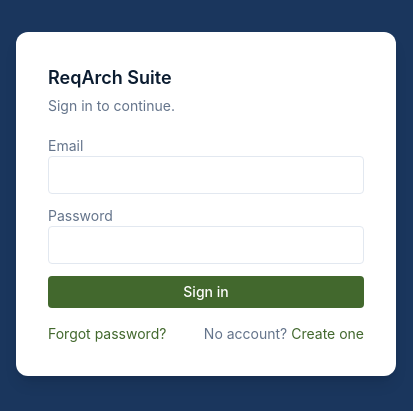
Test case: AuthGate › a failed sign-in shows the error and keeps you on the form
The image size is (413, 411).
In the field labelled "Email": point(206, 175) [48,156,364,194], type "v@example.com"
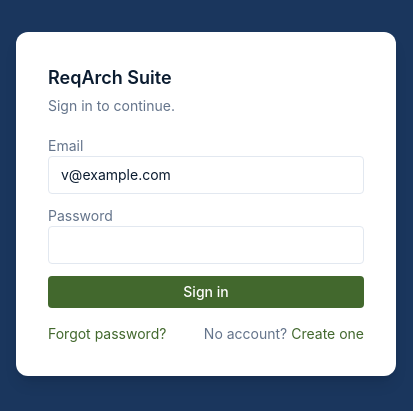
In the password field labelled "Password": point(206, 245) [48,226,364,264], type "wrongpassword"
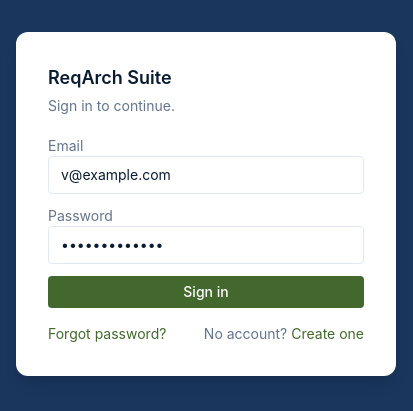
Click the button "Sign in": point(206, 292) [48,276,364,308]
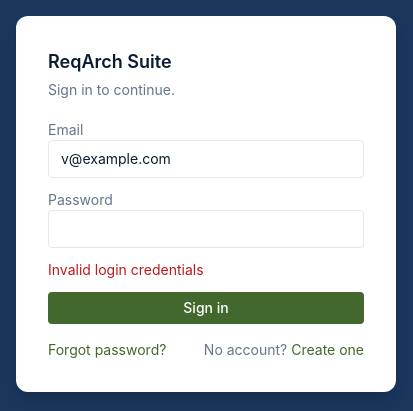
Check: the text "Invalid login credentials" is shown, box [48,261,204,278]
